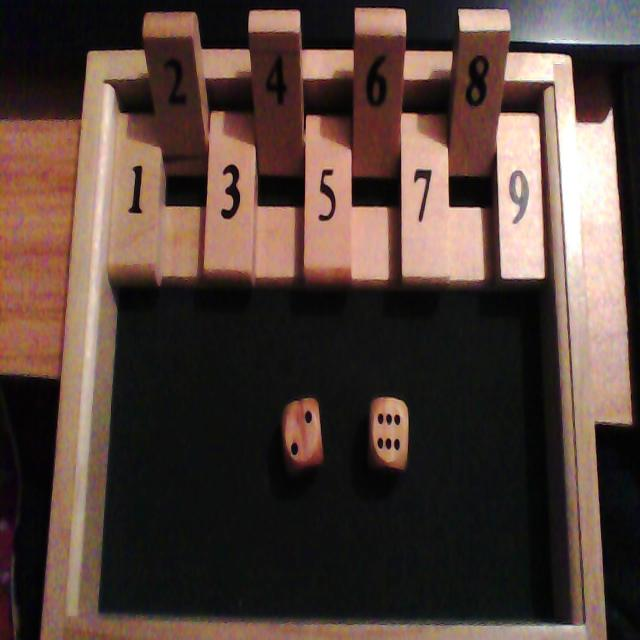2: (277, 391, 328, 474)
6: (364, 390, 414, 479)
C1: (108, 51, 152, 286)
C3: (205, 49, 251, 280)
C5: (306, 50, 351, 282)
C7: (404, 50, 448, 288)
C9: (502, 54, 546, 282)
O2: (142, 13, 206, 277)
O4: (248, 10, 302, 279)
O6: (354, 8, 406, 280)
O8: (450, 9, 510, 281)
